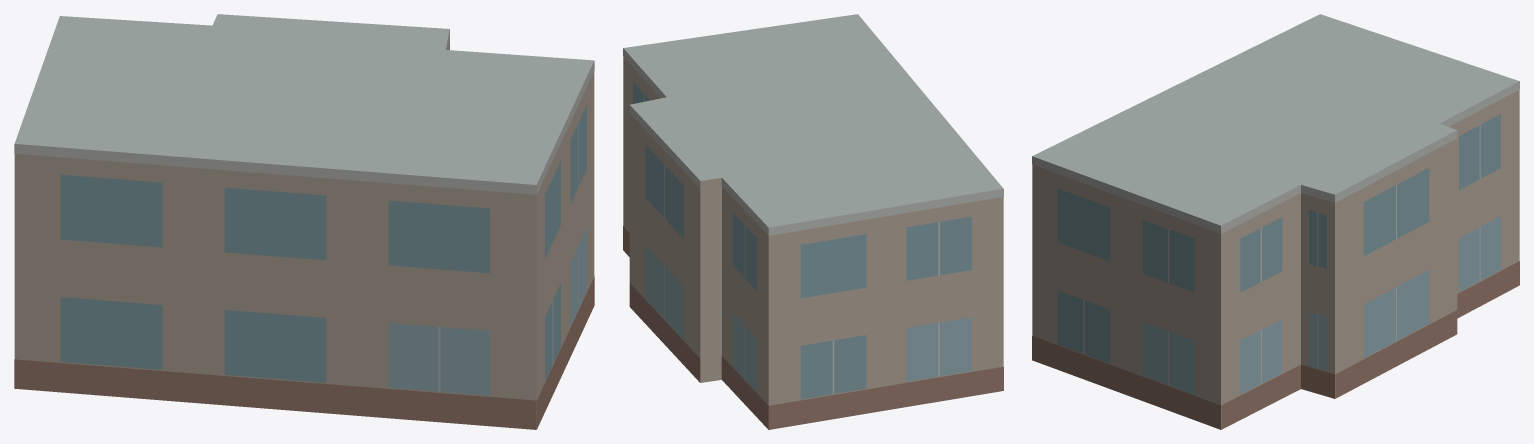
File: survey-upis-33030393.glb
3 renders of one model, left to right at view 1: azimuth 30°, elevation 25°; view 2: azimuth 150°, elevation 25°; view 3: azimuth 270°, elevation 25°, orthographic. The views are drawn at different scales.
Parts seen in each view (by area): view 1: survey-upis-33030393.tmp; view 2: survey-upis-33030393.tmp; view 3: survey-upis-33030393.tmp.
Part boxes in pixels (left/top/right/bottom): survey-upis-33030393.tmp: left=14, top=14, right=594, bottom=429; survey-upis-33030393.tmp: left=623, top=14, right=1003, bottom=429; survey-upis-33030393.tmp: left=1032, top=14, right=1519, bottom=429.
Size of the model in its own units: 13.58 by 6.1 by 13.22.
